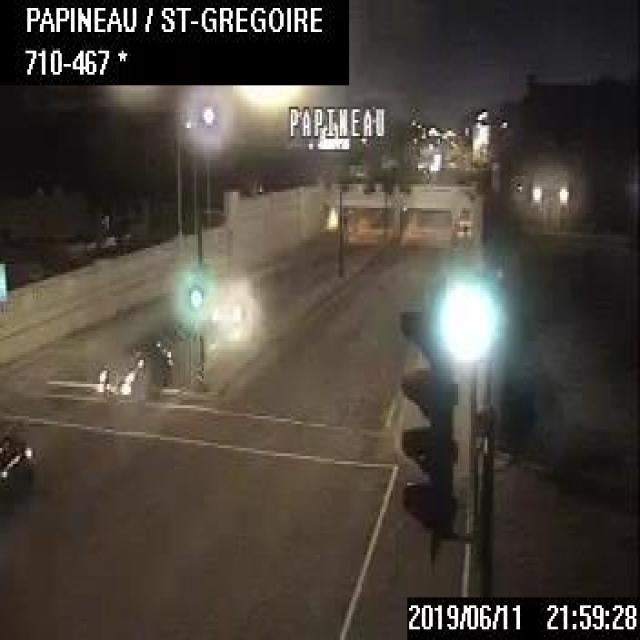vehicle: (96, 333, 171, 398), (0, 432, 33, 501)
